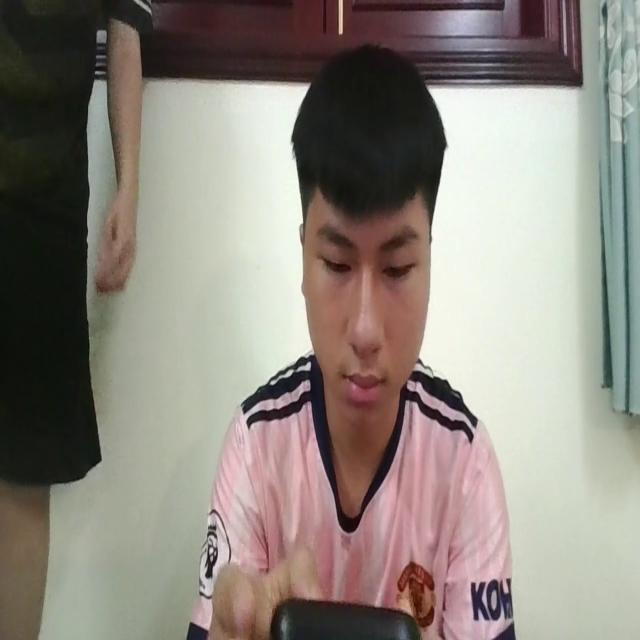extra_person: (0, 0, 157, 640)
phone: (264, 583, 418, 640)
student: (176, 46, 517, 640)
